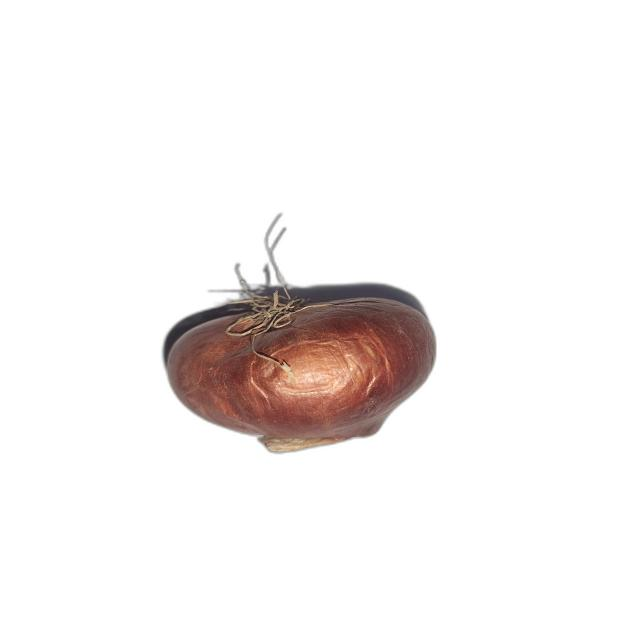onion: (166, 227, 439, 453)
